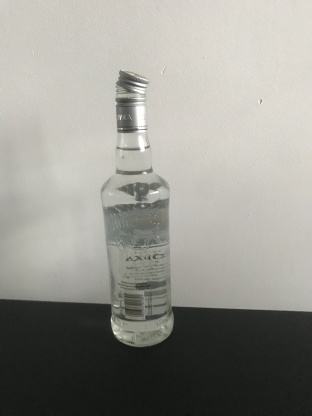nakretka: (113, 66, 150, 133)
